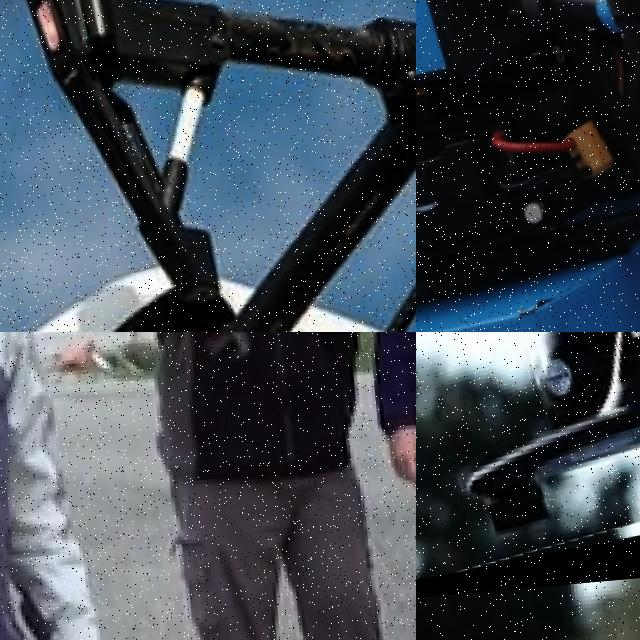drone: (0, 0, 416, 332), (416, 0, 640, 332), (416, 332, 640, 615)
